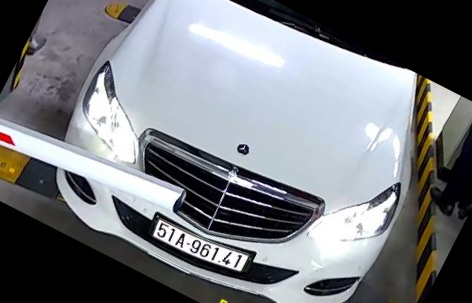plate: (147, 213, 256, 278)
